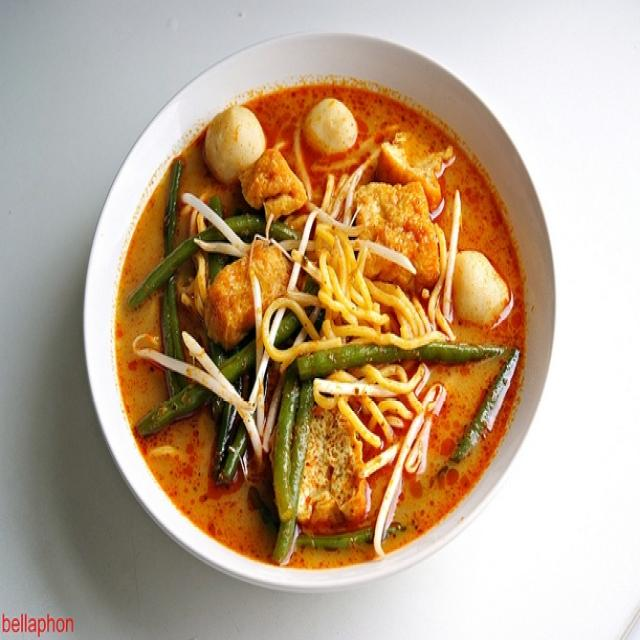面条主食: (88, 44, 561, 577)
